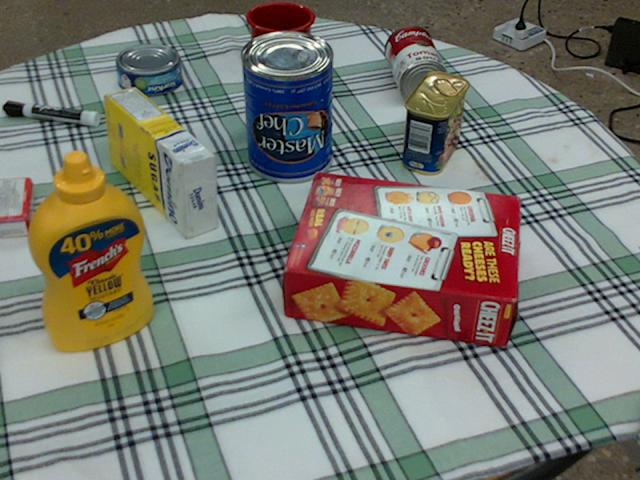cracker_box: (285, 171, 518, 346)
gelatin_box: (0, 177, 34, 237)
large_marker: (4, 100, 98, 125)
master_chef_can: (240, 31, 332, 181)
mug: (247, 1, 316, 82)
mustard_bottle: (28, 150, 152, 348)
potted_meat_can: (401, 72, 467, 174)
sugar_box: (103, 87, 216, 237)
tomato_soup_can: (385, 25, 447, 104)
tuna_fish_can: (116, 43, 182, 94)
